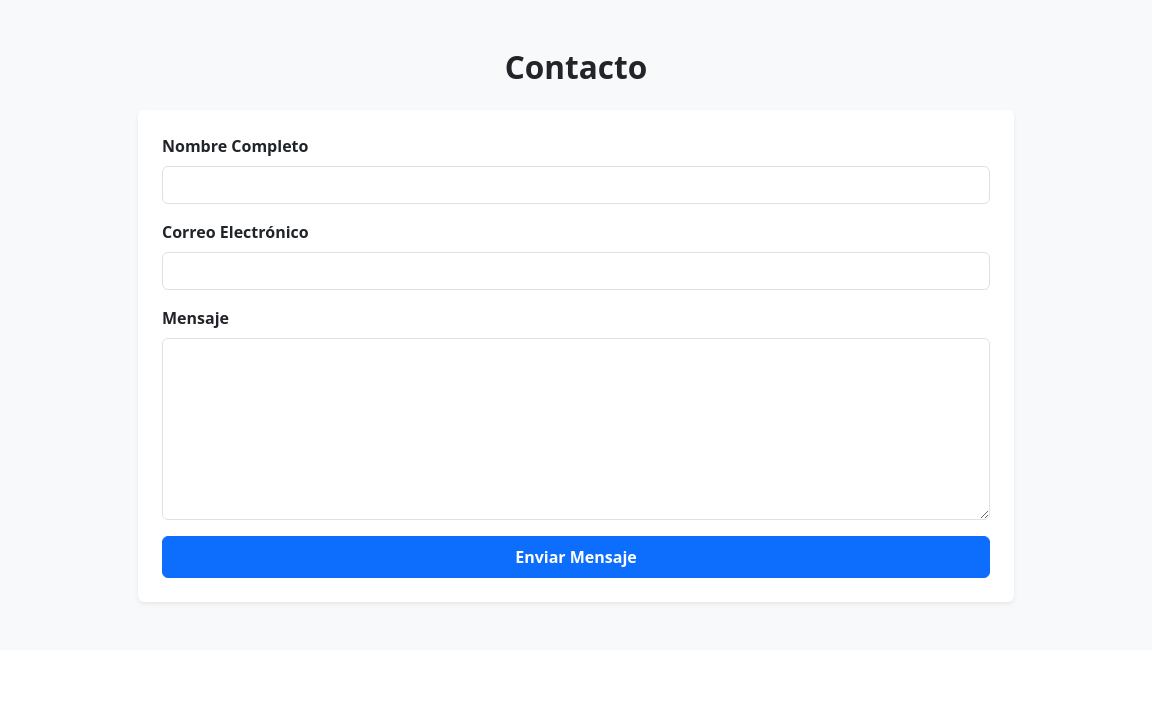
Scenario: Pruebas Unitarias - Portafolio Paul Vásquez › Verifica el envío del formulario de contacto
The image size is (1152, 720).
In the field labelled "Nombre Completo": (576, 185) [162,166,990,204], type "Juan Pérez"
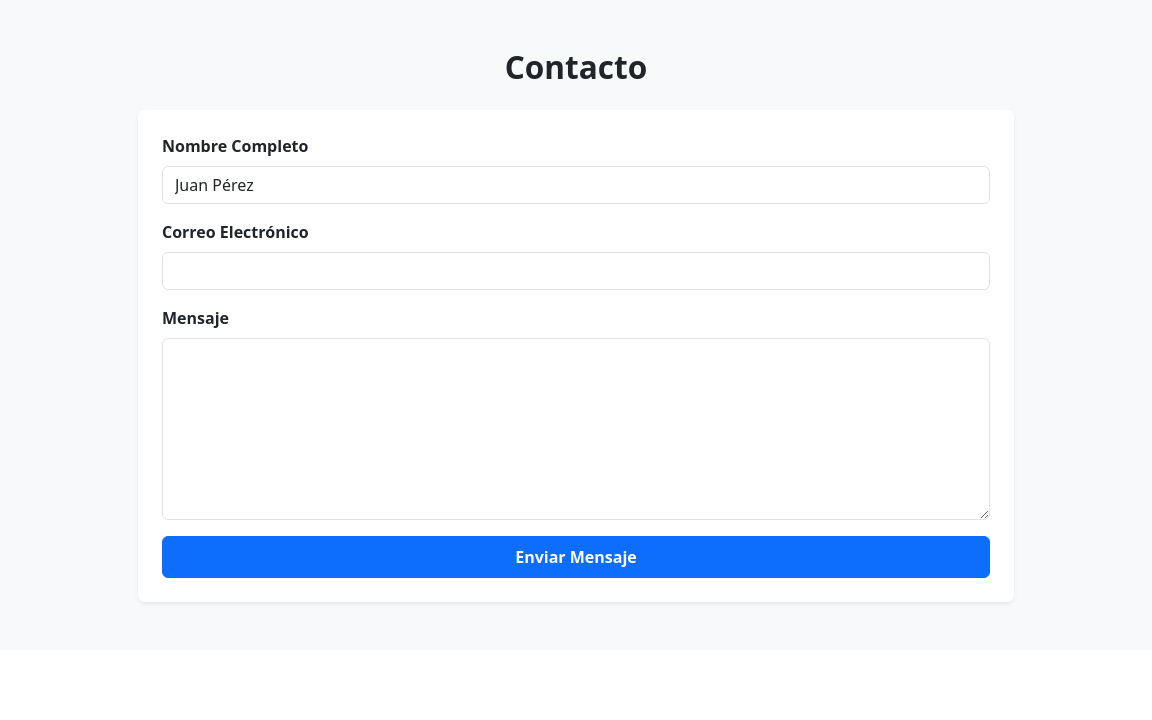
In the field labelled "Correo Electrónico": (576, 271) [162,252,990,290], type "juan@example.com"
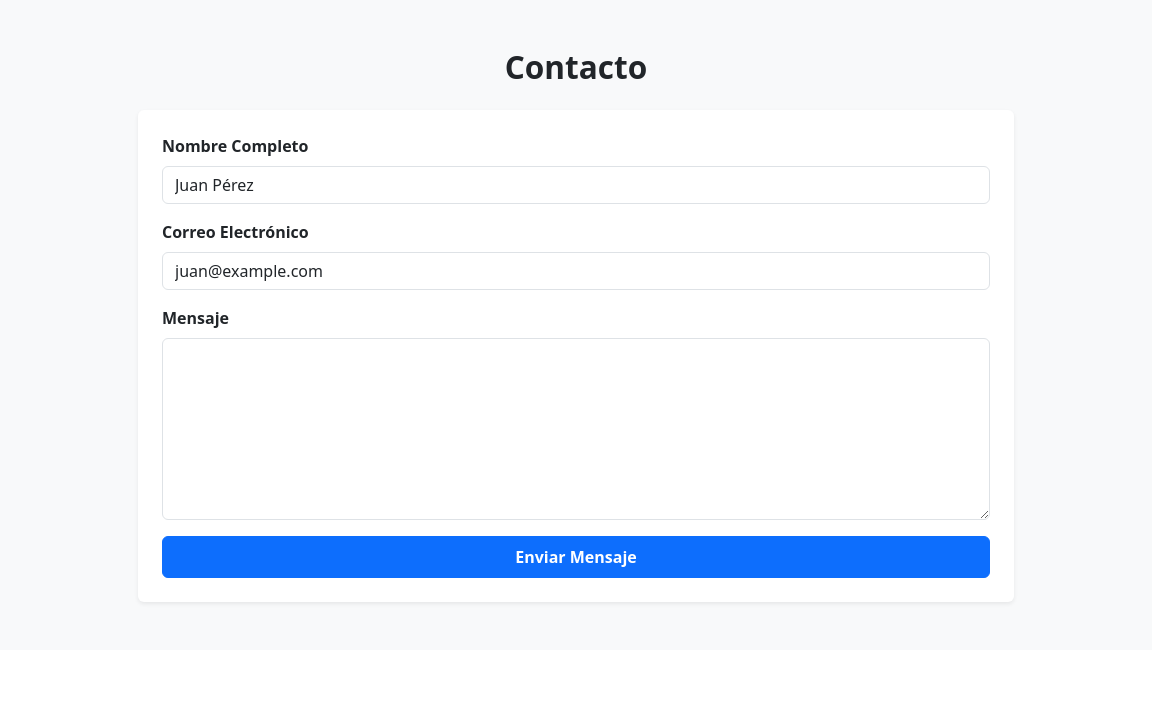
In the text box labelled "Mensaje": (576, 429) [162,338,990,520], type "Mensaje de prueba"
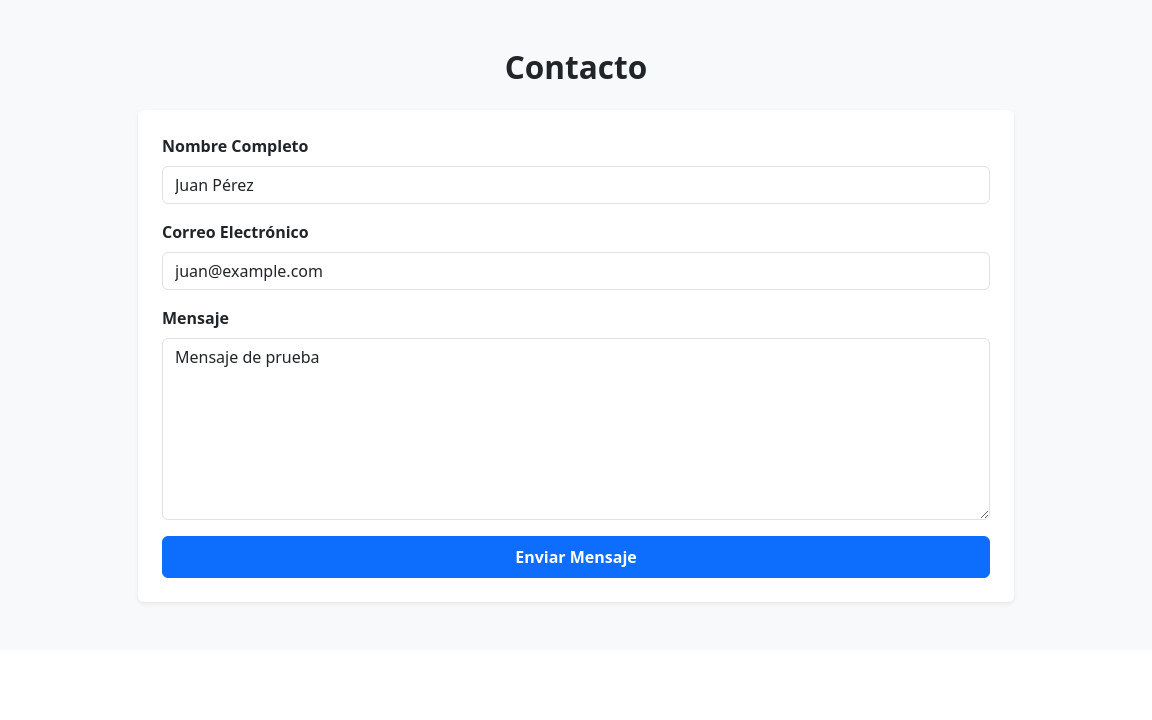
Click the button "Enviar Mensaje": click(576, 557) [162,536,990,578]
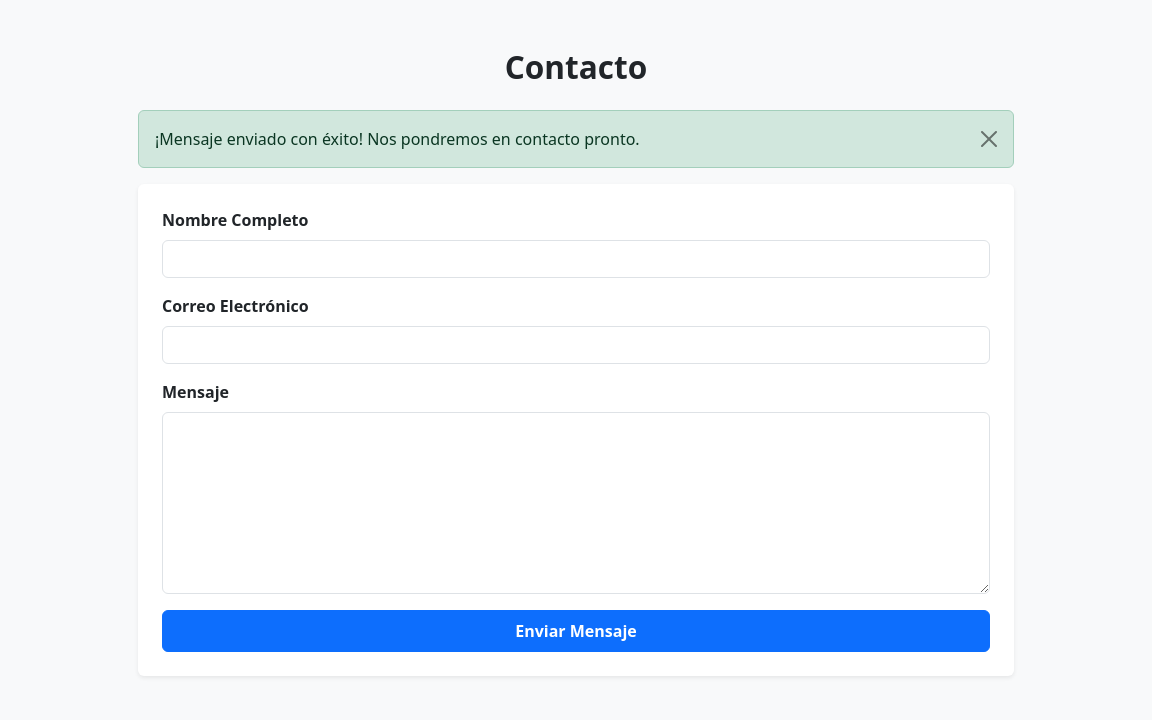
Check: the text "¡Mensaje enviado con éxito! Nos pondremos en contacto pronto." is shown, box [138,110,1014,168]
